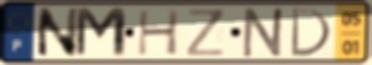D: (288, 6, 334, 59)
H: (136, 8, 182, 57)
M: (73, 6, 130, 60)
N: (240, 6, 289, 59), (35, 6, 82, 60)
Z: (185, 7, 227, 58)
